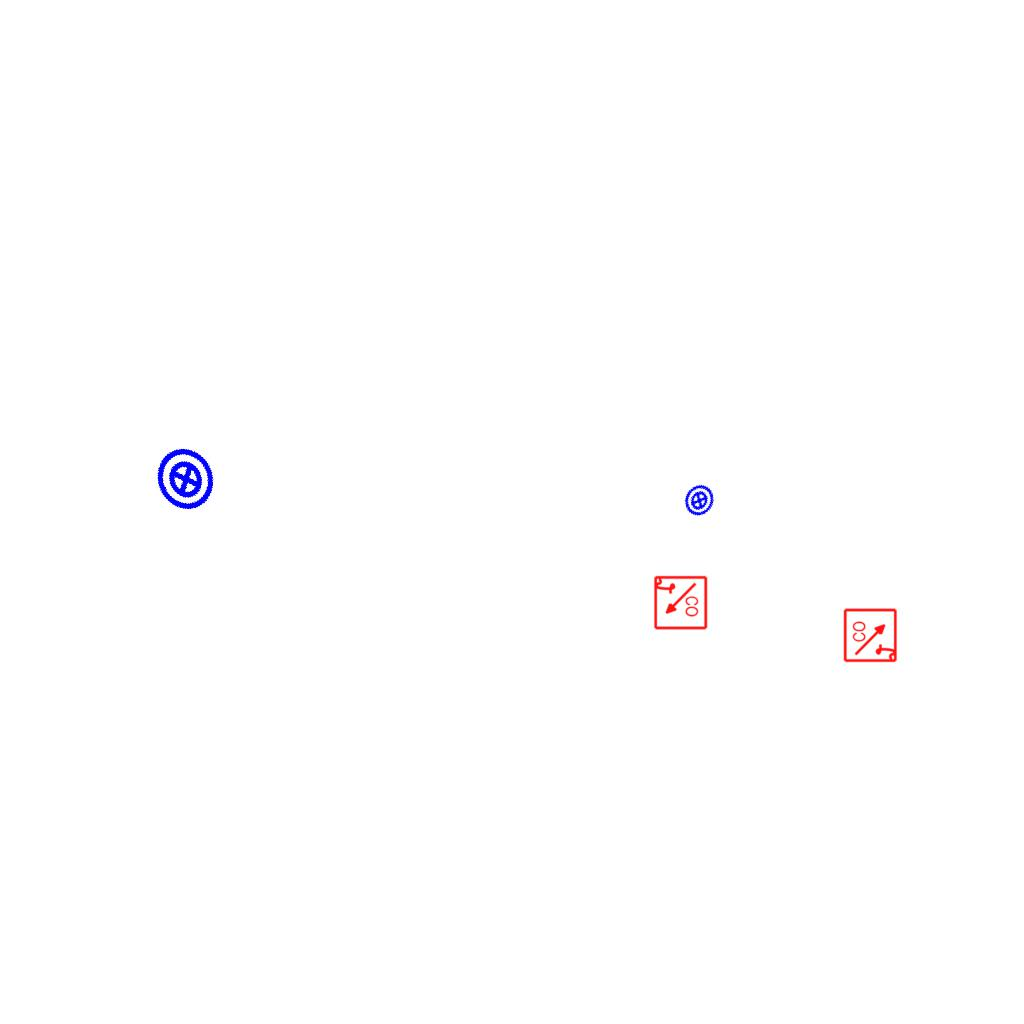ROA_Rauchmelder_optisch_mit_Signalgeber_(Sockelsirene): (843, 607, 899, 663), (652, 575, 708, 631)
Taster_beleuchtet: (142, 435, 230, 523), (677, 478, 722, 523)
